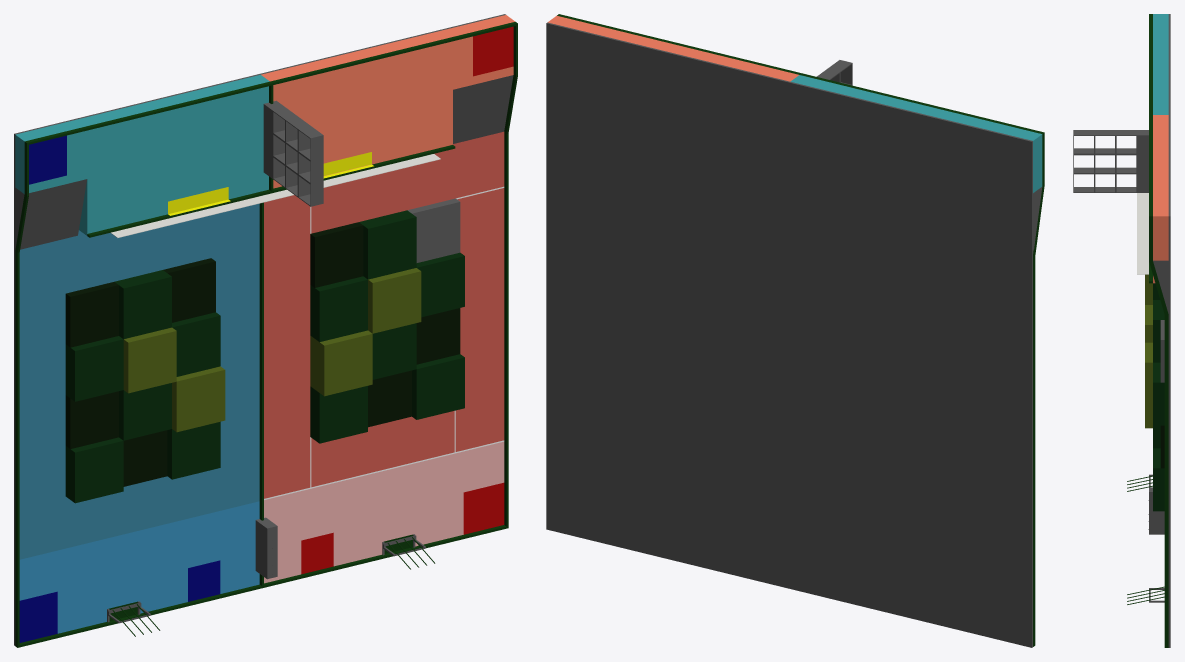
The model's file is robocon_arena.dae.
3 views of the same model, side by side, from view 1: azimuth 30°, elevation 25°; view 2: azimuth 150°, elevation 25°; view 3: azimuth 270°, elevation 25° (orthographic). The views are drawn at different scales.
Parts seen in each view (by area): view 1: node_ebc7093d_3b80_4980_9372_b684f01a681b_mesh0, node_f46e5caf_47a3_4ac1_855c_6ee66343501b_mesh0, node_48112954_7229_4c5e_b61b_eab550533ed8_mesh0, node_08c384f7_fe87_455e_8e60_f551402cf545_mesh0, node_d040f70e_93c3_4127_915a_47a33f8febb4_mesh0, node_d654c6ff_1cf2_4b9e_a414_867f307ee229_mesh1, node_01f86e31_9f60_4cc3_8c13_52559200623c_mesh0, node_d654c6ff_1cf2_4b9e_a414_867f307ee229_mesh0, node_5f244ca6_35f1_4134_bf3f_49133a013cf4_mesh0, node_c9897dbb_a128_4a89_896e_b59821cb2bdb_mesh0, node_3e58c19d_8293_4ff8_b2d0_ff7532bcb708_mesh0, node_0dce0644_3bad_4c4e_b8c6_b2172dd74e95_mesh0 (+16 smaller); view 2: node_873f6319_90ab_4def_b4cf_2235bad6b961_mesh0, node_5f244ca6_35f1_4134_bf3f_49133a013cf4_mesh0, node_48112954_7229_4c5e_b61b_eab550533ed8_mesh0, node_08c384f7_fe87_455e_8e60_f551402cf545_mesh0; view 3: node_5f244ca6_35f1_4134_bf3f_49133a013cf4_mesh0, node_b94d66cc_39a9_4543_a7ad_b99dabb860d8_mesh0, node_08c384f7_fe87_455e_8e60_f551402cf545_mesh0, node_01f86e31_9f60_4cc3_8c13_52559200623c_mesh0, node_873f6319_90ab_4def_b4cf_2235bad6b961_mesh0, node_48112954_7229_4c5e_b61b_eab550533ed8_mesh0, node_d856b46f_eb1b_4b4f_ab93_04fece2c6d23_mesh0, node_0dce0644_3bad_4c4e_b8c6_b2172dd74e95_mesh0, node_d7b1ae9c_6024_4448_8e12_bdd9648f9247_mesh0, node_8fe41c43_eb92_44f4_a158_2e6cce362623_mesh0, node_7e4cf7f8_f169_4de7_adb8_e6d3d2a6259f_mesh0, node_3e58c19d_8293_4ff8_b2d0_ff7532bcb708_mesh1 (+1 smaller).
Part boxes in pixels (bbox=[...]): node_ebc7093d_3b80_4980_9372_b684f01a681b_mesh0: bbox=[264, 131, 504, 498]; node_f46e5caf_47a3_4ac1_855c_6ee66343501b_mesh0: bbox=[19, 203, 259, 558]; node_48112954_7229_4c5e_b61b_eab550533ed8_mesh0: bbox=[15, 74, 269, 235]; node_08c384f7_fe87_455e_8e60_f551402cf545_mesh0: bbox=[261, 15, 514, 188]; node_d040f70e_93c3_4127_915a_47a33f8febb4_mesh0: bbox=[65, 270, 220, 503]; node_d654c6ff_1cf2_4b9e_a414_867f307ee229_mesh1: bbox=[19, 501, 259, 633]; node_01f86e31_9f60_4cc3_8c13_52559200623c_mesh0: bbox=[310, 210, 464, 443]; node_d654c6ff_1cf2_4b9e_a414_867f307ee229_mesh0: bbox=[264, 441, 504, 583]; node_5f244ca6_35f1_4134_bf3f_49133a013cf4_mesh0: bbox=[15, 21, 517, 647]; node_c9897dbb_a128_4a89_896e_b59821cb2bdb_mesh0: bbox=[65, 258, 215, 486]; node_3e58c19d_8293_4ff8_b2d0_ff7532bcb708_mesh0: bbox=[310, 222, 460, 427]; node_0dce0644_3bad_4c4e_b8c6_b2172dd74e95_mesh0: bbox=[310, 268, 421, 396]; node_873f6319_90ab_4def_b4cf_2235bad6b961_mesh0: bbox=[546, 22, 1032, 647]; node_5f244ca6_35f1_4134_bf3f_49133a013cf4_mesh0: bbox=[557, 14, 1044, 646]; node_48112954_7229_4c5e_b61b_eab550533ed8_mesh0: bbox=[791, 75, 1042, 192]; node_08c384f7_fe87_455e_8e60_f551402cf545_mesh0: bbox=[548, 15, 798, 81]; node_5f244ca6_35f1_4134_bf3f_49133a013cf4_mesh0: bbox=[1149, 14, 1168, 647]; node_b94d66cc_39a9_4543_a7ad_b99dabb860d8_mesh0: bbox=[1073, 130, 1148, 192]; node_08c384f7_fe87_455e_8e60_f551402cf545_mesh0: bbox=[1153, 115, 1168, 283]; node_01f86e31_9f60_4cc3_8c13_52559200623c_mesh0: bbox=[1153, 300, 1164, 511]; node_873f6319_90ab_4def_b4cf_2235bad6b961_mesh0: bbox=[1168, 14, 1170, 647]; node_48112954_7229_4c5e_b61b_eab550533ed8_mesh0: bbox=[1153, 14, 1168, 114]; node_d856b46f_eb1b_4b4f_ab93_04fece2c6d23_mesh0: bbox=[1137, 193, 1148, 274]; node_0dce0644_3bad_4c4e_b8c6_b2172dd74e95_mesh0: bbox=[1145, 342, 1152, 428]; node_d7b1ae9c_6024_4448_8e12_bdd9648f9247_mesh0: bbox=[1145, 274, 1152, 342]; node_8fe41c43_eb92_44f4_a158_2e6cce362623_mesh0: bbox=[1148, 487, 1164, 534]; node_7e4cf7f8_f169_4de7_adb8_e6d3d2a6259f_mesh0: bbox=[1153, 260, 1168, 313]; node_3e58c19d_8293_4ff8_b2d0_ff7532bcb708_mesh1: bbox=[1160, 320, 1164, 382].
Size of the model in its own units: 12.15 by 12.1 by 2.47.
